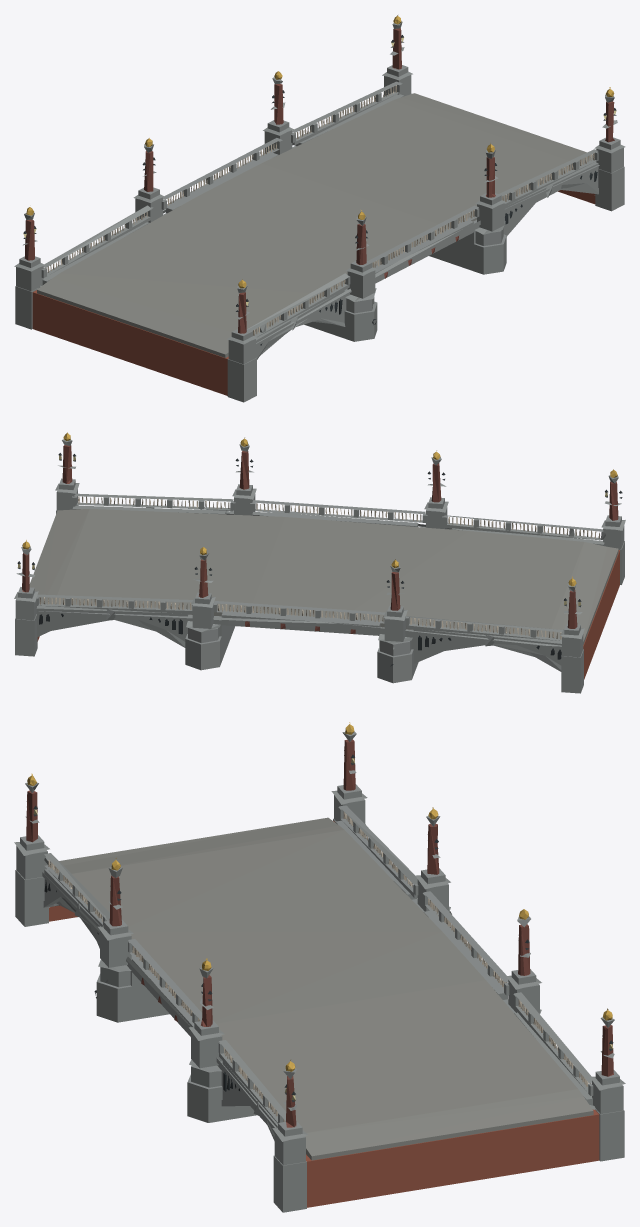
File: blauwbrug.lod1.glb
3 renders of one model, top to bottom at view 1: azimuth 30°, elevation 25°; view 2: azimuth 150°, elevation 25°; view 3: azimuth 270°, elevation 25°, orthographic. The views are drawn at different scales.
Parts seen in each view (by area): view 1: blauwbrug; view 2: blauwbrug; view 3: blauwbrug.
Boxes of the visible parts, <box> form: blauwbrug: <box>14,15,625,402</box>; blauwbrug: <box>14,432,625,693</box>; blauwbrug: <box>14,722,625,1212</box>.
Bounding box in the file's own units: 54.72 × 11.2 × 40.17.
